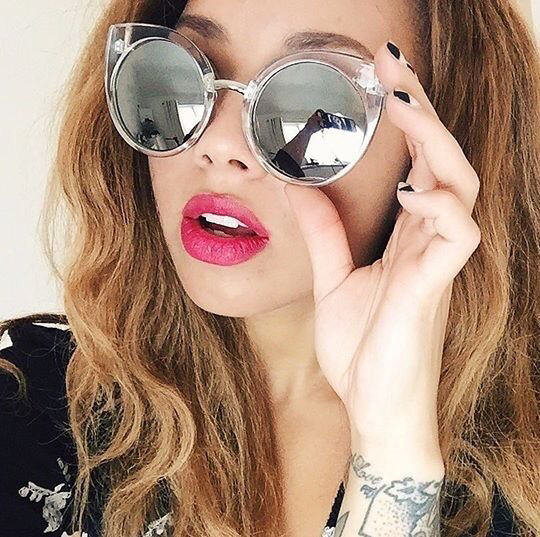sunglasses: (111, 22, 338, 183)
